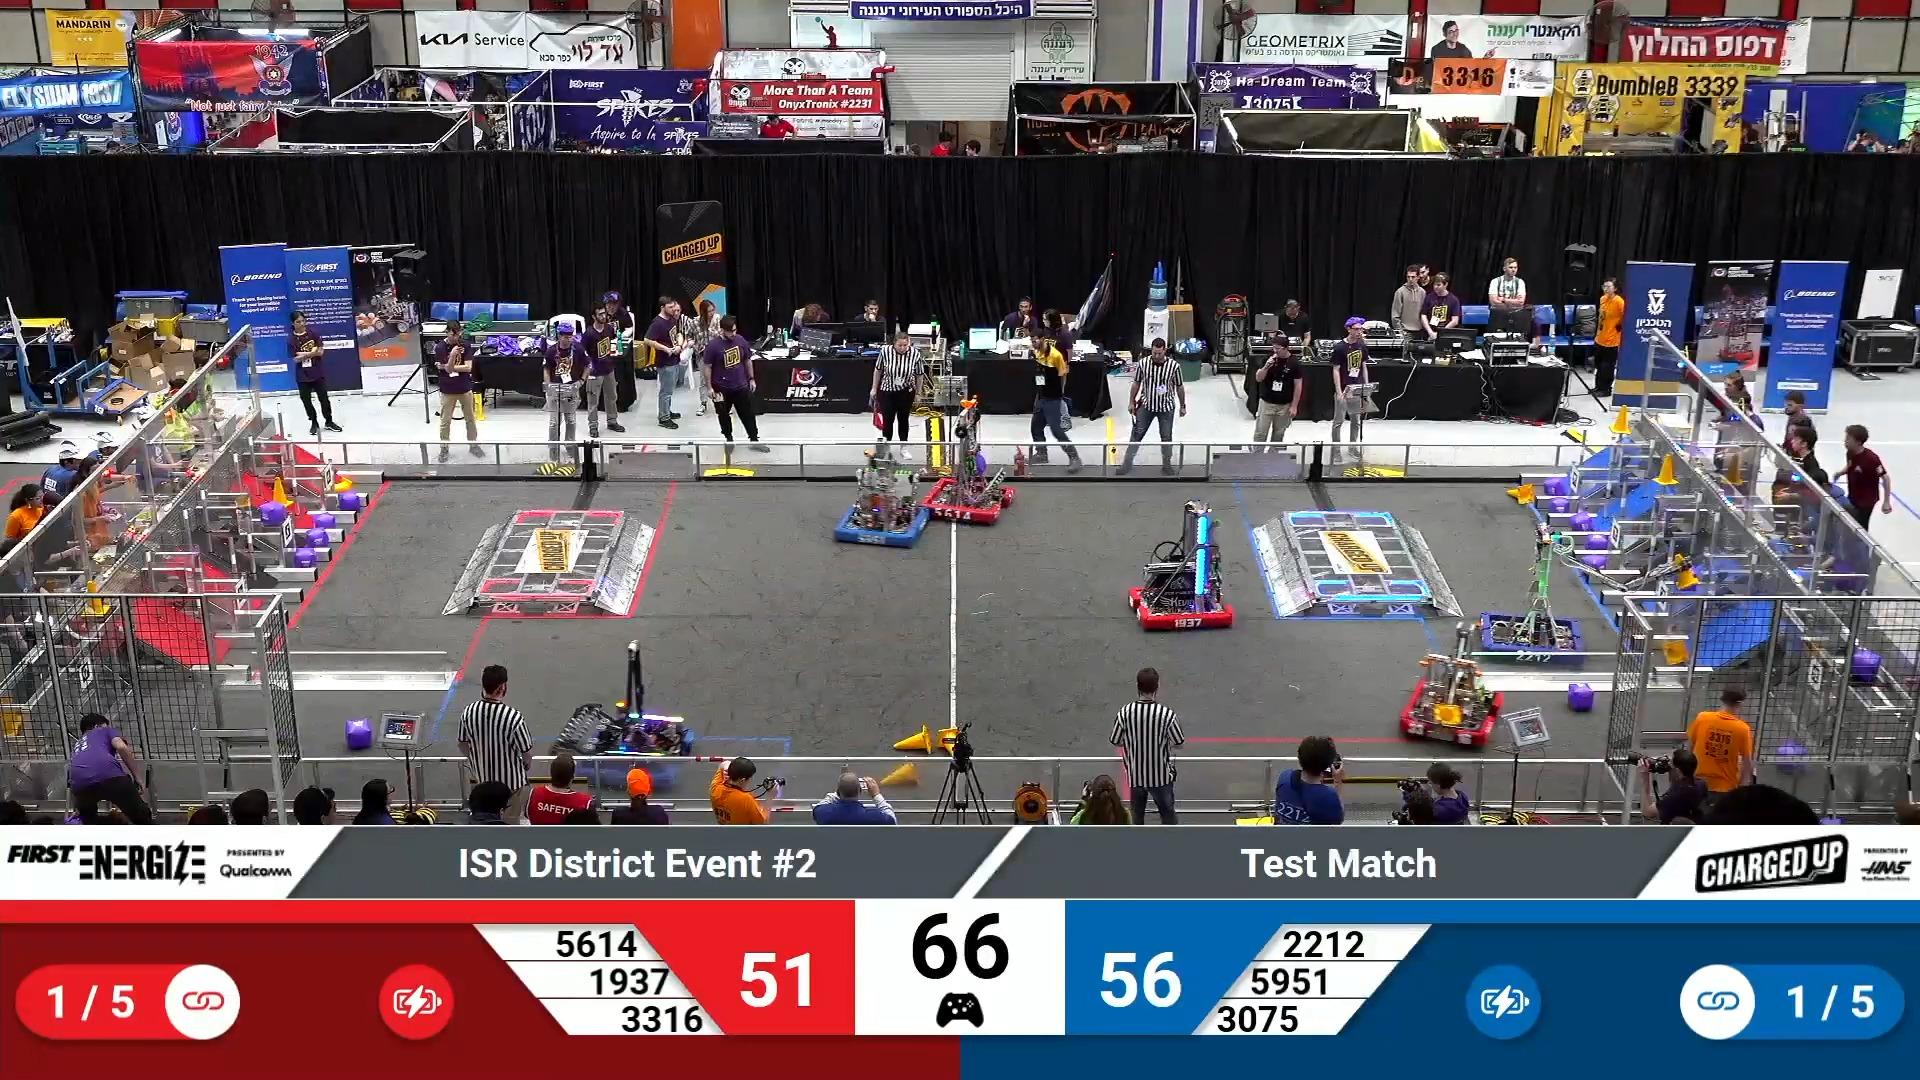robot: (556, 641, 699, 791), (1477, 488, 1584, 661), (1125, 498, 1236, 632), (1396, 622, 1503, 744), (919, 393, 1015, 522), (831, 454, 927, 547)
